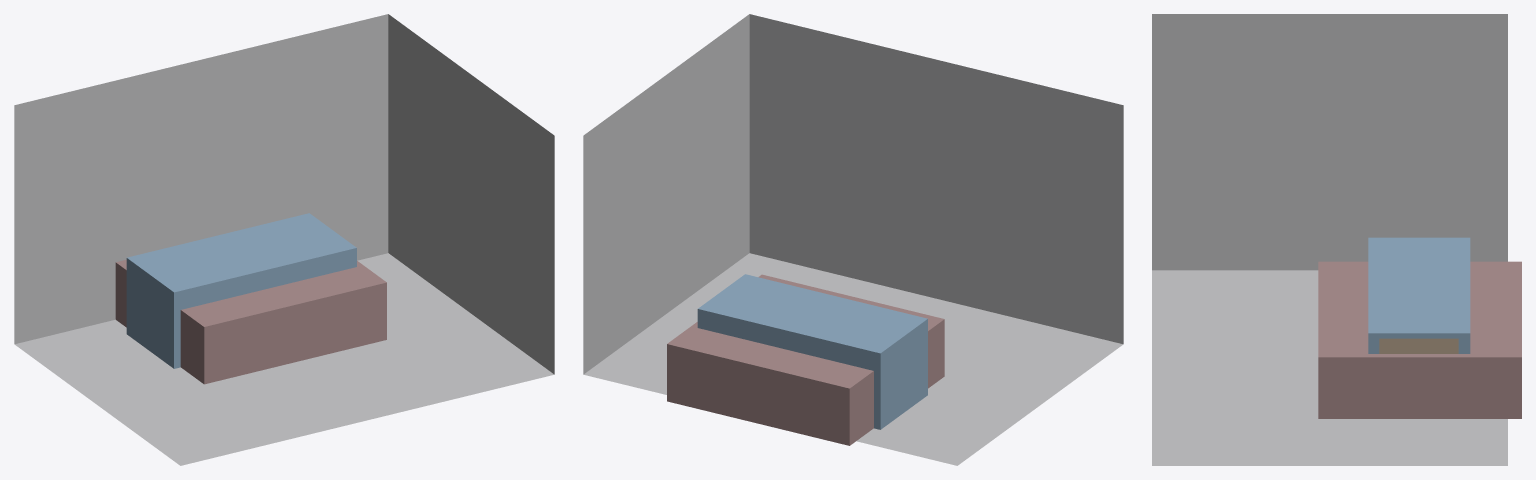
Rendered from optimised_layout.glb.
The picture shows the model from 3 angles, left to right: view 1: azimuth 30°, elevation 25°; view 2: azimuth 150°, elevation 25°; view 3: azimuth 270°, elevation 25°; orthographic projection. The views are drawn at different scales.
Parts seen in each view (by area): view 1: room, bed, sofa; view 2: room, bed, sofa; view 3: room, bed, sofa, desk.
Boxes of the visible parts, x1,y1,x2,y2 form: room: (14, 14, 554, 465); bed: (115, 259, 386, 384); sofa: (126, 213, 356, 368); room: (583, 14, 1123, 465); bed: (667, 274, 944, 445); sofa: (697, 274, 927, 429); room: (1152, 14, 1507, 465); bed: (1318, 261, 1521, 418); sofa: (1368, 237, 1470, 353); desk: (1379, 338, 1458, 353).
Bounding box in the file's own units: 4.09 × 2.5 × 3.27.
